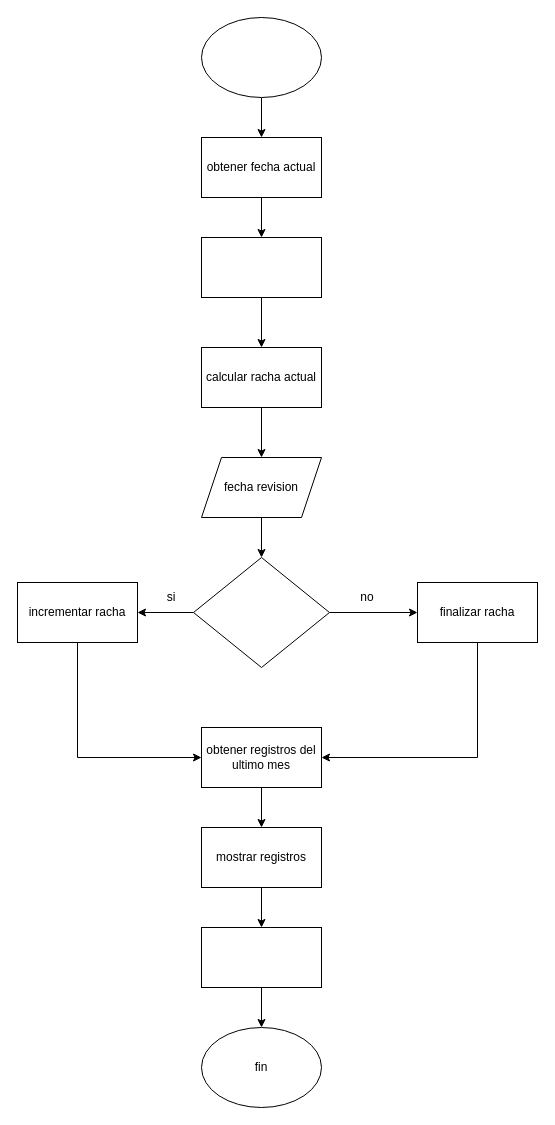
Some shapes in this 555 by 1125 pixel diagram are drawn without their labels. Here are the shapes that lost their labels. From the top down, the box of each, then its label:
(200, 16, 322, 98): Inicio
(200, 236, 322, 298): Guardar registro en bbdd
(192, 556, 330, 668): existe registro para esa fecha
(200, 926, 322, 988): mostrar racha actual
